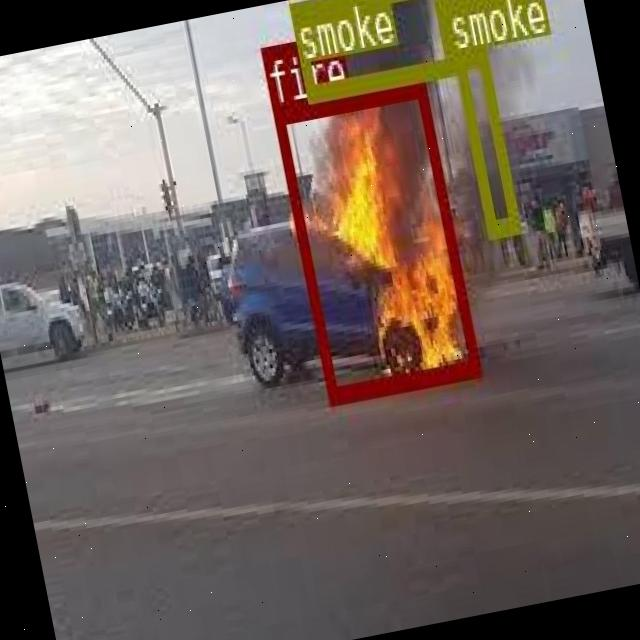fire: (270, 78, 480, 403)
smoke: (287, 0, 455, 98), (452, 47, 518, 235)
